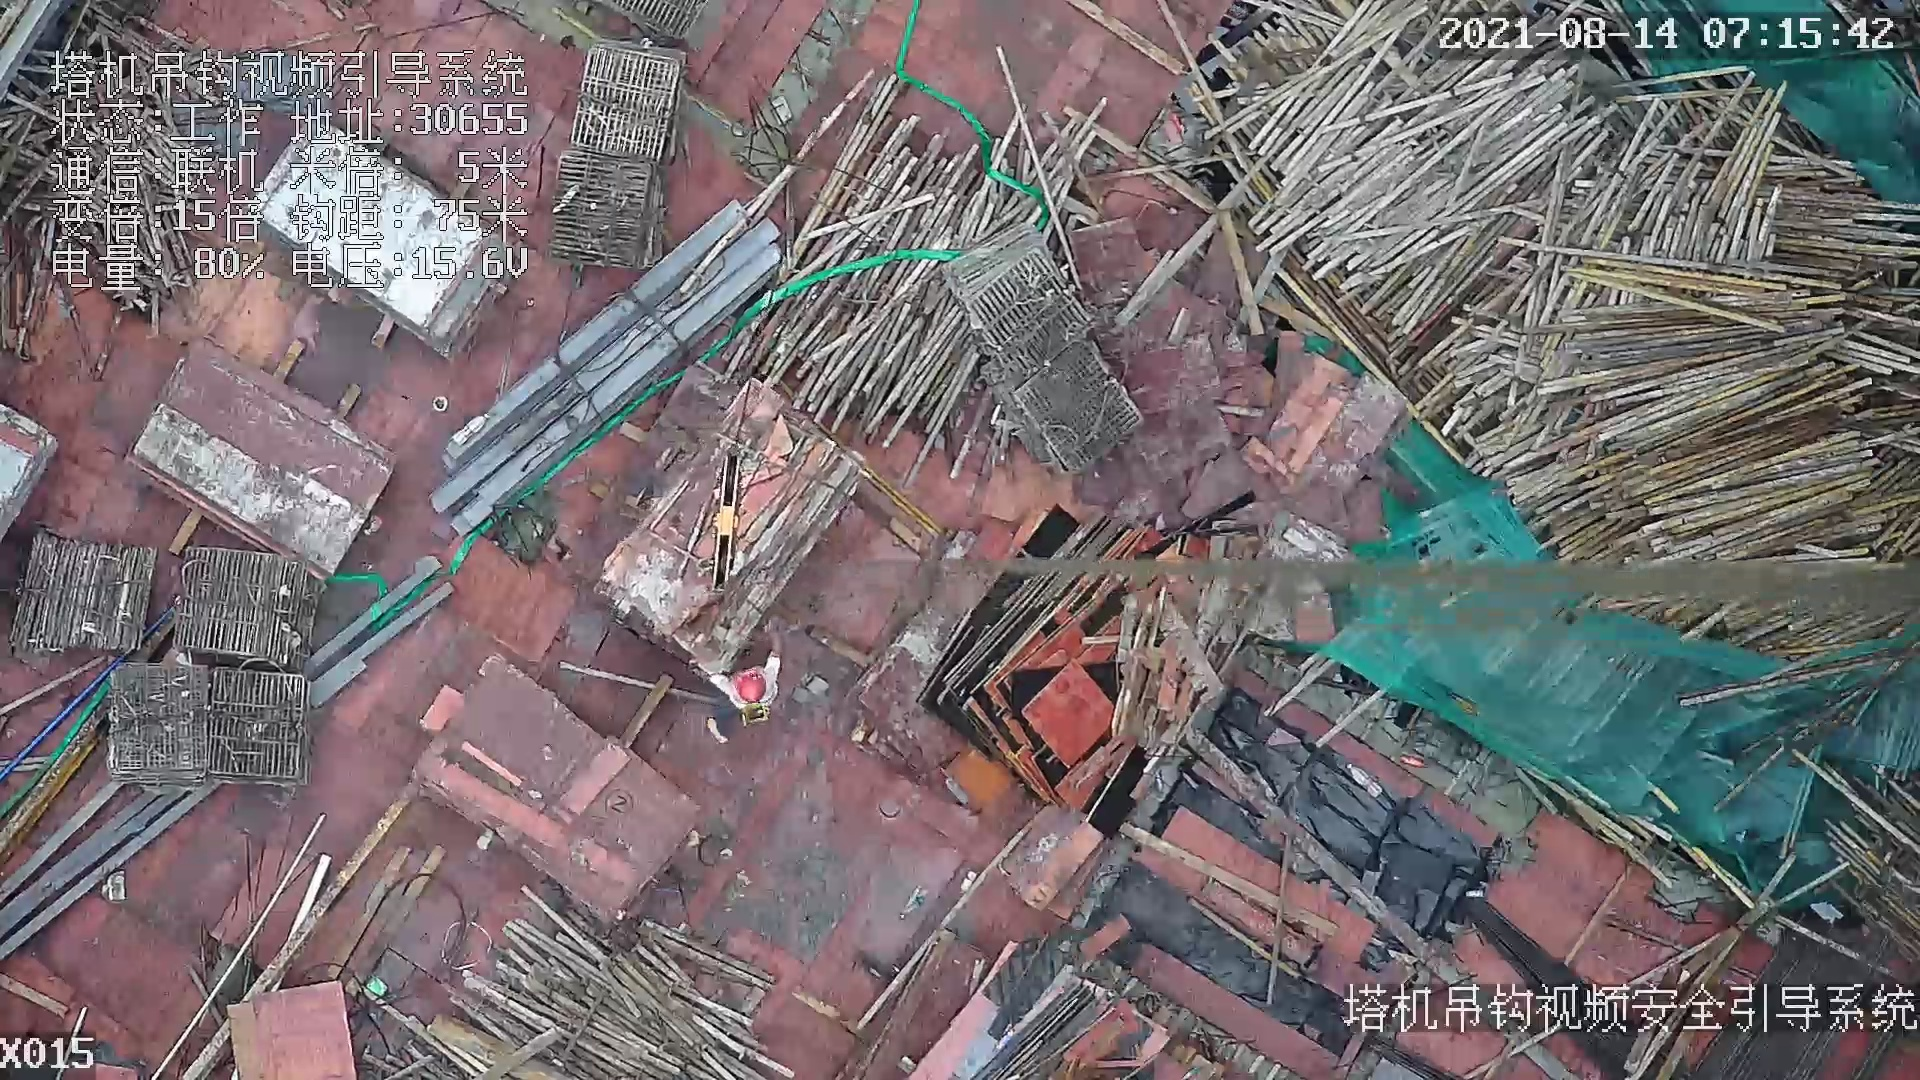helmet: (729, 668, 767, 701)
hook: (704, 455, 750, 596)
person: (703, 645, 779, 735)
